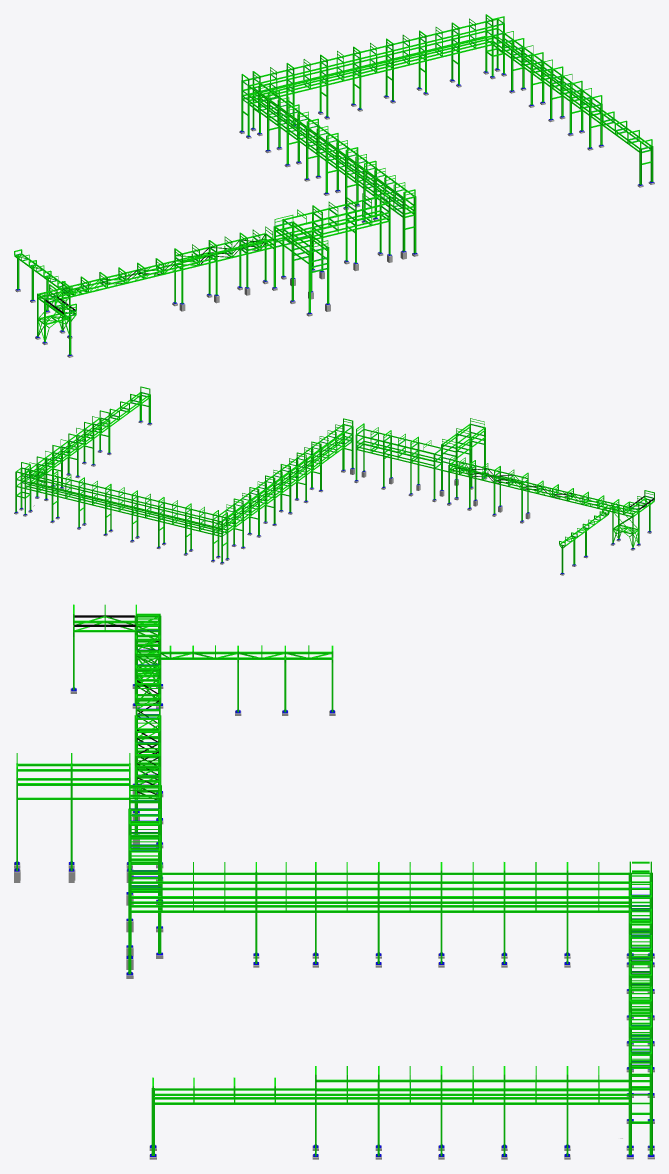
File: pipe_rack.glb
3 renders of one model, top to bottom at view 1: azimuth 30°, elevation 25°; view 2: azimuth 150°, elevation 25°; view 3: azimuth 270°, elevation 25°, orthographic. The views are drawn at different scales.
Size of the model in its own units: 109379 by 12004 by 61132.
